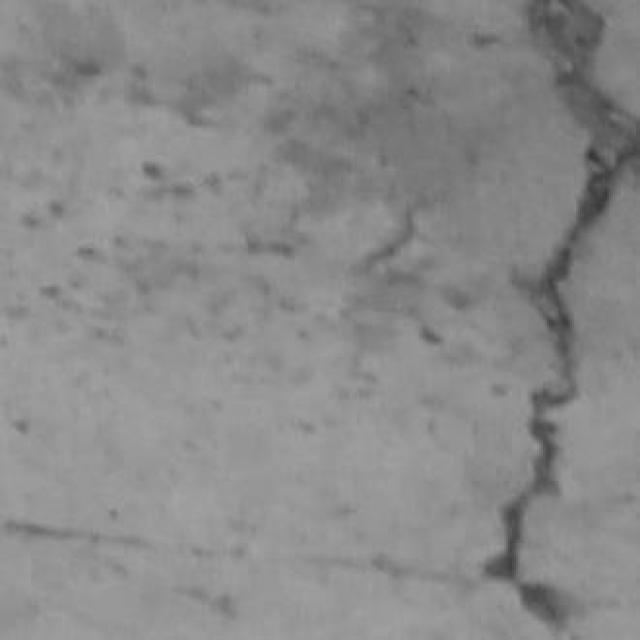crack: (485, 0, 639, 630), (2, 518, 240, 558), (359, 206, 416, 273)
